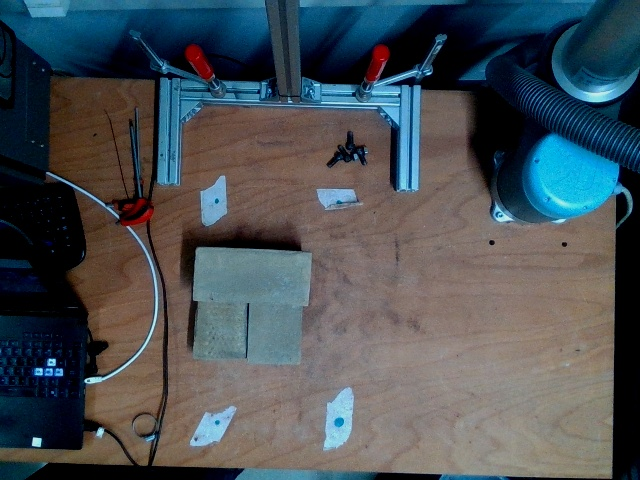brick: (194, 249, 310, 306)
